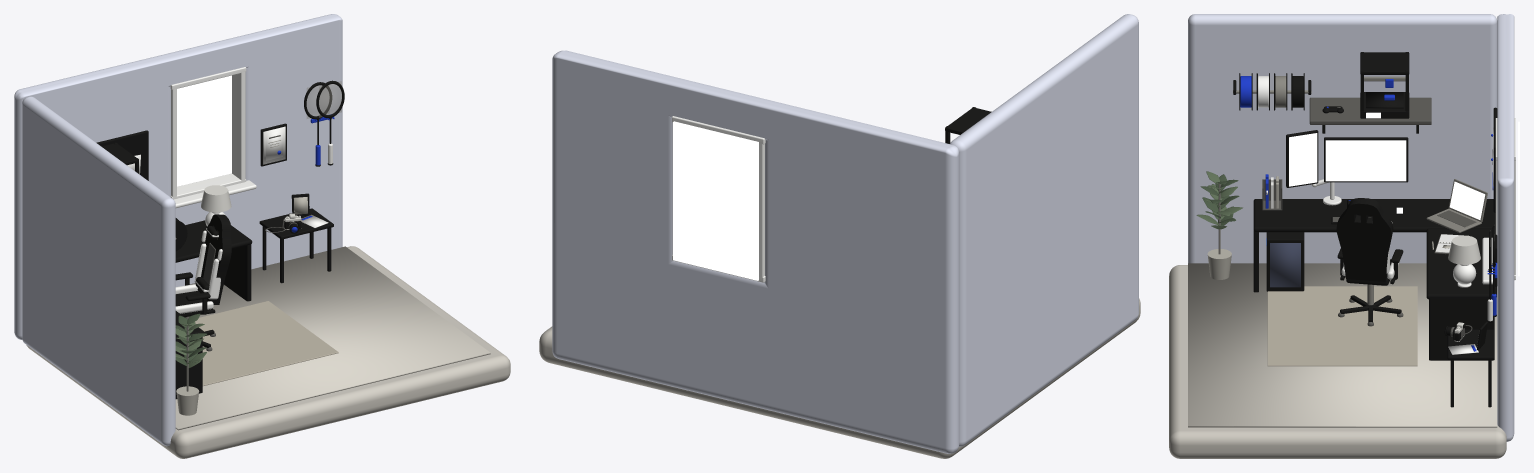
Rendered from tuu-room.glb.
The picture shows the model from 3 angles, left to right: view 1: azimuth 30°, elevation 25°; view 2: azimuth 150°, elevation 25°; view 3: azimuth 270°, elevation 25°; orthographic projection. The views are drawn at different scales.
Parts seen in each view (by area): view 1: wall_left, wall_back, floor, slab, rug, window_glow, window_frame_2, chair_back_shell, desk_leg_return, desk_top_return, pinboard, side_table_top (+7 smaller); view 2: wall_back, wall_left, window_glow, slab, window_frame_3; view 3: wall_left, floor, slab, rug, wall_back, desk_top_long, chair_back_shell, monitor_l_screen, desk_top_return, desk_leg_return, pc_case, printer_shelf (+19 smaller).
Boxes of the visible parts, x1=… form: wall_left: x1=22, y1=96, x2=175, y2=446; wall_back: x1=14, y1=14, x2=342, y2=339; floor: x1=175, y1=246, x2=490, y2=430; slab: x1=26, y1=246, x2=510, y2=458; rug: x1=195, y1=301, x2=338, y2=385; window_glow: x1=177, y1=75, x2=231, y2=186; window_frame_2: x1=232, y1=72, x2=245, y2=180; chair_back_shell: x1=197, y1=214, x2=231, y2=304; desk_leg_return: x1=224, y1=244, x2=251, y2=301; desk_top_return: x1=175, y1=220, x2=252, y2=262; pinboard: x1=96, y1=130, x2=148, y2=180; side_table_top: x1=259, y1=208, x2=333, y2=239; wall_back: x1=552, y1=50, x2=959, y2=453; wall_left: x1=950, y1=14, x2=1138, y2=446; window_glow: x1=673, y1=121, x2=758, y2=280; slab: x1=539, y1=298, x2=1140, y2=458; window_frame_3: x1=759, y1=143, x2=764, y2=277; wall_left: x1=1188, y1=14, x2=1497, y2=263; floor: x1=1188, y1=263, x2=1497, y2=427; slab: x1=1169, y1=265, x2=1506, y2=458; rug: x1=1267, y1=286, x2=1417, y2=366; wall_back: x1=1497, y1=14, x2=1514, y2=441; desk_top_long: x1=1253, y1=199, x2=1495, y2=232; chair_back_shell: x1=1336, y1=198, x2=1393, y2=281; monitor_l_screen: x1=1325, y1=140, x2=1406, y2=181; desk_top_return: x1=1426, y1=228, x2=1496, y2=299; desk_leg_return: x1=1429, y1=298, x2=1494, y2=360; pc_case: x1=1266, y1=232, x2=1304, y2=291; printer_shelf: x1=1309, y1=97, x2=1431, y2=124.
Size of the model in its own units: 4.48 by 3.23 by 3.74.
